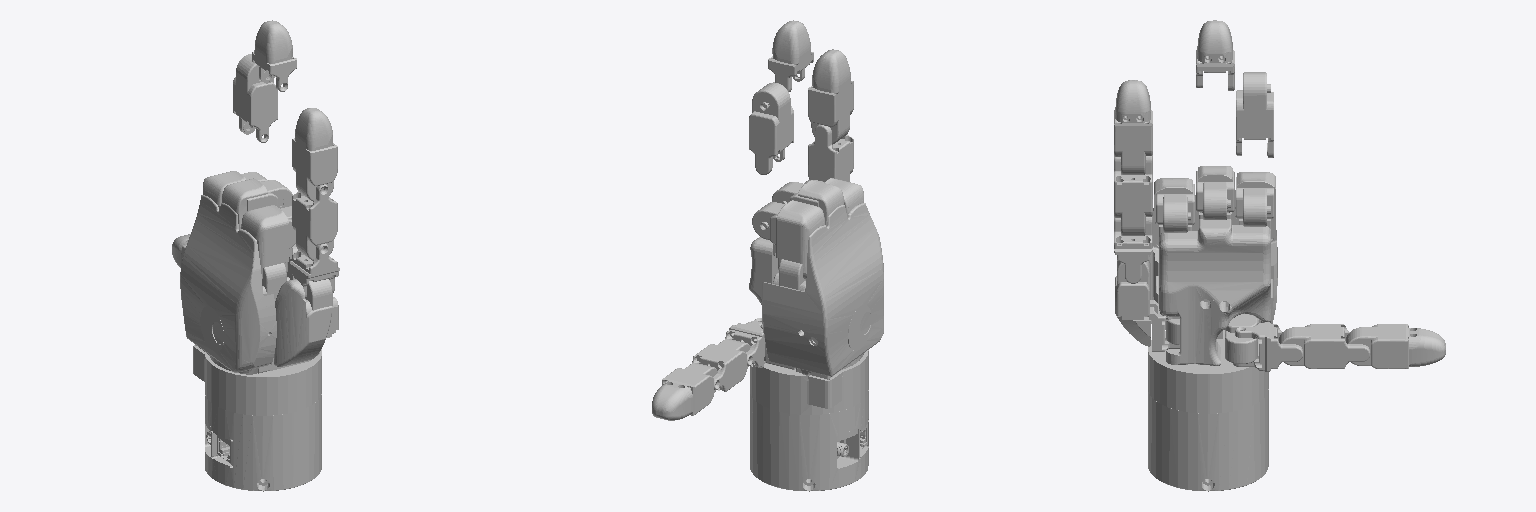
robot.urdf — delto_gripper_5f:
<?xml version="1.0" ?>

<robot name="delto_gripper_5f">
  <material name="silver">
    <color rgba="0.8 0.8 0.8 1"/>
  </material>

  <link name="dummy_link"/>

  <joint name="dummy_joint" type="fixed">
    <origin xyz="0 0 0" rpy="0 0 0"/>
    <parent link="dummy_link"/>
    <child link="link_d"/>
  </joint>
  
  <link name="link_d">
    <inertial>
      <mass value="0.5" />
      <inertia ixx="0.000001" iyy="0.000001" izz="0.000001" ixy="0" ixz="0" iyz="0"/>
    </inertial>
    <visual>
      <origin xyz="0 0 0" rpy="0 0 0" />
      <geometry>
        <mesh filename="package://delto_description/meshes/DG5F/base_link.STL" />
      </geometry>
      <material name="silver"/>
    <material name="silver"/>
</visual>
    <collision>
      <origin xyz="0 0 0" rpy="0 0 0" />
      <geometry>
        <mesh filename="package://delto_description/meshes/DG5F/base_link.STL" />
      </geometry>
    </collision>
  </link>

  <!--finger 1-->
  <link name="l_1_1">
    <inertial>
      <mass value="0.02" />
      <inertia ixx="0.000001" iyy="0.000001" izz="0.000001" ixy="0" ixz="0" iyz="0"/>
    </inertial>
    <visual>
      <origin xyz="0 0 0" rpy="0 0 0" />
      <geometry>
        <mesh filename="package://delto_description/meshes/DG5F/l_1_1.STL" />
      </geometry>
      <material name="silver"/>
    <material name="silver"/>
</visual>
    <collision>
      <origin xyz="0 0 0" rpy="0 0 0" />
      <geometry>
        <mesh filename="package://delto_description/meshes/DG5F/l_1_1.STL" />
      </geometry>
    </collision>
  </link>
      
  <joint name="j_1_1" type="revolute">
    <origin xyz="-0.0184 0.0191 0.0866" rpy="0.0 0.0 0.0" />
    <parent link="link_d" />
    <child link="l_1_1" />
    <axis xyz="1 0 0" />
    <limit lower="-0.261799" upper="1.0472" effort="100.0" velocity="3.141592653589793"/>  <!-- effort="100.0" velocity="3.141592653589793" -->
  </joint>

  <link name="l_1_2">
    <inertial>
      <mass value="0.01" />
<inertia ixx="0.000001" iyy="0.000001" izz="0.000001" ixy="0" ixz="0" iyz="0"/>
    </inertial>
    <visual>
      <origin xyz="0 0 0" rpy="0 0 0" />
      <geometry>
        <mesh filename="package://delto_description/meshes/DG5F/l_1_2.STL" />
      </geometry>
    <material name="silver"/>
</visual>
    <collision>
      <origin xyz="0 0 0" rpy="0 0 0" />
      <geometry>
        <mesh filename="package://delto_description/meshes/DG5F/l_1_2.STL" />
      </geometry>
    </collision>
  </link>
  <joint name="j_1_2" type="revolute">
    <origin xyz="0.0405 0.0 0.0" rpy="0.0 0.0 0.0" />
    <parent link="l_1_1" />
    <child link="l_1_2" />
    <axis xyz="0 0 -1" />
    <limit lower="-0.0" upper="1.91986" effort="100.0" velocity="3.141592653589793"/>  <!-- effort="100.0" velocity="3.141592653589793" -->
  </joint>

  <link name="l_1_3">
    <inertial>
      <mass value="0.02" />
<inertia ixx="0.000001" iyy="0.000001" izz="0.000001" ixy="0" ixz="0" iyz="0"/>
    </inertial>
    <visual>
      <origin xyz="0 0 0" rpy="0 0 0" />
      <geometry>
        <mesh filename="package://delto_description/meshes/DG5F/l_1_3.STL" />
      </geometry>
    <material name="silver"/>
</visual>
    <collision>
      <origin xyz="0 0 0" rpy="0 0 0" />
      <geometry>
        <mesh filename="package://delto_description/meshes/DG5F/l_1_3.STL" />
      </geometry>
    </collision>
  </link>
  <joint name="j_1_3" type="revolute">
    <origin xyz="0.0 0.031 0.0" rpy="0.0 0.0 0.0" />
    <parent link="l_1_2" />
    <child link="l_1_3" />
    <axis xyz="1 0 0" />
    <limit lower="-1.5708" upper="1.5708" effort="100.0" velocity="3.141592653589793"/>  <!-- effort="100.0" velocity="3.141592653589793" -->
  </joint>

  <link name="l_1_4">
    <inertial>
      <mass value="0.02" />
<inertia ixx="0.000001" iyy="0.000001" izz="0.000001" ixy="0" ixz="0" iyz="0"/>
    </inertial>
    <visual>
      <origin xyz="0 0 0" rpy="0 0 0" />
      <geometry>
        <mesh filename="package://delto_description/meshes/DG5F/l_1_4.STL" />
      </geometry>
    <material name="silver"/>
</visual>
    <collision>
      <origin xyz="0 0 0" rpy="0 0 0" />
      <geometry>
        <mesh filename="package://delto_description/meshes/DG5F/l_1_4.STL" />
      </geometry>
    </collision>
  </link>
  <joint name="j_1_4" type="revolute">
    <origin xyz="0.0 0.0388 0.0" rpy="0.0 0.0 0.0" />
    <parent link="l_1_3" />
    <child link="l_1_4" />
    <axis xyz="1 0 0" />
    <limit lower="-1.5708" upper="1.5708" effort="100.0" velocity="3.141592653589793"/>  <!-- effort="100.0" velocity="3.141592653589793" -->
  </joint>

  <link name="l_1_tip">
    <inertial>
      <mass value="0.01" />
<inertia ixx="0.000001" iyy="0.000001" izz="0.000001" ixy="0" ixz="0" iyz="0"/>
    </inertial>
    <visual>
      <origin xyz="0 0 0" rpy="0 0 0" />
      <geometry>
        <mesh filename="package://delto_description/meshes/DG5F/l_1_tip.STL" />
      </geometry>
    <material name="silver"/>
</visual>
    <collision>
      <origin xyz="0 0 0" rpy="0 0 0" />
      <geometry>
        <mesh filename="package://delto_description/meshes/DG5F/l_1_tip.STL" />
      </geometry>
    </collision>
  </link>
  <joint name="j_1_tip" type="fixed">
    <origin xyz="0.0 0.0248 0.0" rpy="0.0 0.0 0.0" />
    <parent link="l_1_4" />
    <child link="l_1_tip" />
  </joint>

  <!--finger 2-->
  <link name="l_2_1">
    <inertial>
      <mass value="0.02" />
<inertia ixx="0.000001" iyy="0.000001" izz="0.000001" ixy="0" ixz="0" iyz="0"/>
    </inertial>
    <visual>
      <origin xyz="0 0 0" rpy="0 0 0" />
      <geometry>
        <mesh filename="package://delto_description/meshes/DG5F/l_2_1.STL" />
      </geometry>
    <material name="silver"/>
</visual>
    <collision>
      <origin xyz="0 0 0" rpy="0 0 0" />
      <geometry>
        <mesh filename="package://delto_description/meshes/DG5F/l_2_1.STL" />
      </geometry>
    </collision>
  </link>
  <joint name="j_2_1" type="revolute">
    <origin xyz="-0.0071 0.02702 0.1409" rpy="0.0 0.0 0.0" />
    <parent link="link_d" />
    <child link="l_2_1" />
    <axis xyz="1 0 0" />
    <limit lower="-0.523599" upper="0.261799" effort="100.0" velocity="3.141592653589793"/>  <!-- effort="100.0" velocity="3.141592653589793" -->
  </joint>

  <link name="l_2_2">
    <inertial>
      <mass value="0.02" />
<inertia ixx="0.000001" iyy="0.000001" izz="0.000001" ixy="0" ixz="0" iyz="0"/>
    </inertial>
    <visual>
      <origin xyz="0 0 0" rpy="0 0 0" />
      <geometry>
        <mesh filename="package://delto_description/meshes/DG5F/l_2_2.STL" />
      </geometry>
    <material name="silver"/>
</visual>
    <collision>
      <origin xyz="0 0 0" rpy="0 0 0" />
      <geometry>
        <mesh filename="package://delto_description/meshes/DG5F/l_2_2.STL" />
      </geometry>
    </collision>
  </link>
  <joint name="j_2_2" type="revolute">
    <origin xyz="0.0171 0.0 0.0272" rpy="0.0 0.0 0.0" />
    <parent link="l_2_1" />
    <child link="l_2_2" />
    <axis xyz="0 1 0" />
    <limit lower="-0.0" upper="1.74533" effort="100.0" velocity="3.141592653589793"/>  <!-- effort="100.0" velocity="3.141592653589793" -->
  </joint>

  <link name="l_2_3">
    <inertial>
      <mass value="0.02" />
<inertia ixx="0.000001" iyy="0.000001" izz="0.000001" ixy="0" ixz="0" iyz="0"/>
    </inertial>
    <visual>
      <origin xyz="0 0 0" rpy="0 0 0" />
      <geometry>
        <mesh filename="package://delto_description/meshes/DG5F/l_2_3.STL" />
      </geometry>
    <material name="silver"/>
</visual>
    <collision>
      <origin xyz="0 0 0" rpy="0 0 0" />
      <geometry>
        <mesh filename="package://delto_description/meshes/DG5F/l_2_3.STL" />
      </geometry>
    </collision>
  </link>
  <joint name="j_2_3" type="revolute">
    <origin xyz="0.0 0.0 0.0388" rpy="0.0 0.0 0.0" />
    <parent link="l_2_2" />
    <child link="l_2_3" />
    <axis xyz="0 1 0" />
    <limit lower="-1.5708" upper="1.5708" effort="100.0" velocity="3.141592653589793"/>  <!-- effort="100.0" velocity="3.141592653589793" -->
  </joint>

  <link name="l_2_4">
    <inertial>
      <mass value="0.01" />
<inertia ixx="0.000001" iyy="0.000001" izz="0.000001" ixy="0" ixz="0" iyz="0"/>
    </inertial>
    <visual>
      <origin xyz="0 0 0" rpy="0 0 0" />
      <geometry>
        <mesh filename="package://delto_description/meshes/DG5F/l_2_4.STL" />
      </geometry>
    <material name="silver"/>
</visual>
    <collision>
      <origin xyz="0 0 0" rpy="0 0 0" />
      <geometry>
        <mesh filename="package://delto_description/meshes/DG5F/l_2_4.STL" />
      </geometry>
    </collision>
  </link>
  <joint name="j_2_4" type="revolute">
    <origin xyz="0.0 0.0 0.0388" rpy="0.0 0.0 0.0" />
    <parent link="l_2_3" />
    <child link="l_2_4" />
    <axis xyz="0 1 0" />
    <limit lower="-1.5708" upper="1.5708" effort="100.0" velocity="3.141592653589793"/>  <!-- effort="100.0" velocity="3.141592653589793" -->
  </joint>

  <link name="l_2_tip">
    <inertial>
      <mass value="0.01" />
<inertia ixx="0.000001" iyy="0.000001" izz="0.000001" ixy="0" ixz="0" iyz="0"/>
    </inertial>
    <visual>
      <origin xyz="0 0 0" rpy="0 0 0" />
      <geometry>
        <mesh filename="package://delto_description/meshes/DG5F/l_2_tip.STL" />
      </geometry>
    <material name="silver"/>
</visual>
    <collision>
      <origin xyz="0 0 0" rpy="0 0 0" />
      <geometry>
        <mesh filename="package://delto_description/meshes/DG5F/l_2_tip.STL" />
      </geometry>
    </collision>
  </link>
  <joint name="j_2_tip" type="fixed">
    <origin xyz="0.0 0.0 0.014" rpy="0.0 0.0 0.0" />
    <parent link="l_2_4" />
    <child link="l_2_tip" />
  </joint>

  <!--finger 3-->
  <link name="l_3_1">
    <inertial>
      <mass value="0.02" />
      <inertia ixx="0.000001" iyy="0.000001" izz="0.000001" ixy="0" ixz="0" iyz="0"/>s
    </inertial>
    <visual>
      <origin xyz="0 0 0" rpy="0 0 0" />
      <geometry>
        <mesh filename="package://delto_description/meshes/DG5F/l_3_1.STL" />
      </geometry>
    <material name="silver"/>
</visual>
    <collision>
      <origin xyz="0 0 0" rpy="0 0 0" />
      <geometry>
        <mesh filename="package://delto_description/meshes/DG5F/l_3_1.STL" />
      </geometry>
    </collision>
  </link>
  <joint name="j_3_1" type="revolute">
    <origin xyz="-0.0071 0.00402 0.1449" rpy="0.0 0.0 0.0" />
    <parent link="link_d" />
    <child link="l_3_1" />
    <axis xyz="1 0 0" />
    <limit lower="-0.523599" upper="0.523599" effort="100.0" velocity="3.141592653589793"/>  <!-- effort="100.0" velocity="3.141592653589793" -->
  </joint>

  <link name="l_3_2">
    <inertial>
      <mass value="0.02" />
      <inertia ixx="0.000001" iyy="0.000001" izz="0.000001" ixy="0" ixz="0" iyz="0"/>
    </inertial>
    <visual>
      <origin xyz="0 0 0" rpy="0 0 0" />
      <geometry>
        <mesh filename="package://delto_description/meshes/DG5F/l_3_2.STL" />
      </geometry>
    <material name="silver"/>
</visual>
    <collision>
      <origin xyz="0 0 0" rpy="0 0 0" />
      <geometry>
        <mesh filename="package://delto_description/meshes/DG5F/l_3_2.STL" />
      </geometry>
    </collision>
  </link>
  <joint name="j_3_2" type="revolute">
    <origin xyz="0.0171 0.0 0.0272" rpy="0.0 0.0 0.0" />
    <parent link="l_3_1" />
    <child link="l_3_2" />
    <axis xyz="0 1 0" />
    <limit lower="-0.0" upper="1.74533" effort="100.0" velocity="3.141592653589793"/>  <!-- effort="100.0" velocity="3.141592653589793" -->
  </joint>

  <link name="l_3_3">
    <inertial>
      <mass value="0.02" />
      <inertia ixx="0.000001" iyy="0.000001" izz="0.000001" ixy="0" ixz="0" iyz="0"/>
    </inertial>
    <visual>
      <origin xyz="0 0 0" rpy="0 0 0" />
      <geometry>
        <mesh filename="package://delto_description/meshes/DG5F/l_3_3.STL" />
      </geometry>
    <material name="silver"/>
</visual>
    <collision>
      <origin xyz="0 0 0" rpy="0 0 0" />
      <geometry>
        <mesh filename="package://delto_description/meshes/DG5F/l_3_3.STL" />
      </geometry>
    </collision>
  </link>
  <joint name="j_3_3" type="revolute">
    <origin xyz="0.0 0.0 0.0388" rpy="0.0 0.0 0.0" />
    <parent link="l_3_2" />
    <child link="l_3_3" />
    <axis xyz="0 1 0" />
    <limit lower="-1.5708" upper="1.5708" effort="100.0" velocity="3.141592653589793"/>  <!-- effort="100.0" velocity="3.141592653589793" -->
  </joint>

  <link name="l_3_4">
    <inertial>
      <mass value="0.01" />
      <inertia ixx="0.000001" iyy="0.000001" izz="0.000001" ixy="0" ixz="0" iyz="0"/>
    </inertial>
    <visual>
      <origin xyz="0 0 0" rpy="0 0 0" />
      <geometry>
        <mesh filename="package://delto_description/meshes/DG5F/l_3_4.STL" />
      </geometry>
    <material name="silver"/>
</visual>
    <collision>
      <origin xyz="0 0 0" rpy="0 0 0" />
      <geometry>
        <mesh filename="package://delto_description/meshes/DG5F/l_3_4.STL" />
      </geometry>
    </collision>
  </link>
  <joint name="j_3_4" type="revolute">
    <origin xyz="0.0 0.0 0.0388" rpy="0.0 0.0 0.0" />
    <parent link="l_3_3" />
    <child link="l_3_4" />
    <axis xyz="0 1 0" />
    <limit lower="-1.5708" upper="1.5708" effort="100.0" velocity="3.141592653589793"/>  <!-- effort="100.0" velocity="3.141592653589793" -->
  </joint>

  <link name="l_3_tip">
    <inertial>
      <mass value="0.01" />
      <inertia ixx="0.000001" iyy="0.000001" izz="0.000001" ixy="0" ixz="0" iyz="0"/>
    </inertial>
    <visual>
      <origin xyz="0 0 0" rpy="0 0 0" />
      <geometry>
        <mesh filename="package://delto_description/meshes/DG5F/l_3_tip.STL" />
      </geometry>
    <material name="silver"/>
</visual>
    <collision>
      <origin xyz="0 0 0" rpy="0 0 0" />
      <geometry>
        <mesh filename="package://delto_description/meshes/DG5F/l_3_tip.STL" />
      </geometry>
    </collision>
  </link>
  <joint name="j_3_tip" type="fixed">
    <origin xyz="0.0 0.0 0.014" rpy="0.0 0.0 0.0" />
    <parent link="l_3_4" />
    <child link="l_3_tip" />
  </joint>

  <!--finger 4-->
  <link name="l_4_1">
    <inertial>
      <mass value="0.02" />
      <inertia ixx="0.000001" iyy="0.000001" izz="0.000001" ixy="0" ixz="0" iyz="0"/>
    </inertial>
    <visual>
      <origin xyz="0 0 0" rpy="0 0 0" />
      <geometry>
        <mesh filename="package://delto_description/meshes/DG5F/l_4_1.STL" />
      </geometry>
    <material name="silver"/>
</visual>
    <collision>
      <origin xyz="0 0 0" rpy="0 0 0" />
      <geometry>
        <mesh filename="package://delto_description/meshes/DG5F/l_4_1.STL" />
      </geometry>
    </collision>
  </link>
  <joint name="j_4_1" type="revolute">
    <origin xyz="-0.0071 -0.01898 0.1369" rpy="0.0 0.0 0.0" />
    <parent link="link_d" />
    <child link="l_4_1" />
    <axis xyz="1 0 0" />
    <limit lower="-0.261799" upper="0.523599" effort="100.0" velocity="3.141592653589793"/>  <!-- effort="100.0" velocity="3.141592653589793" -->
  </joint>

  <link name="l_4_2">
    <inertial>
      <mass value="0.02" />
      <inertia ixx="0.000001" iyy="0.000001" izz="0.000001" ixy="0" ixz="0" iyz="0"/>
    </inertial>
    <visual>
      <origin xyz="0 0 0" rpy="0 0 0" />
      <geometry>
        <mesh filename="package://delto_description/meshes/DG5F/l_4_2.STL" />
      </geometry>
    <material name="silver"/>
</visual>
    <collision>
      <origin xyz="0 0 0" rpy="0 0 0" />
      <geometry>
        <mesh filename="package://delto_description/meshes/DG5F/l_4_2.STL" />
      </geometry>
    </collision>
  </link>
  <joint name="j_4_2" type="revolute">
    <origin xyz="0.0171 0.0 0.0272" rpy="0.0 0.0 0.0" />
    <parent link="l_4_1" />
    <child link="l_4_2" />
    <axis xyz="0 1 0" />
    <limit lower="-0.0" upper="1.74533" effort="100.0" velocity="3.141592653589793"/>  <!-- effort="100.0" velocity="3.141592653589793" -->
  </joint>

  <link name="l_4_3">
    <inertial>
      <mass value="0.02" />
      <inertia ixx="0.000001" iyy="0.000001" izz="0.000001" ixy="0" ixz="0" iyz="0"/>
    </inertial>
    <visual>
      <origin xyz="0 0 0" rpy="0 0 0" />
      <geometry>
        <mesh filename="package://delto_description/meshes/DG5F/l_4_3.STL" />
      </geometry>
    <material name="silver"/>
</visual>
    <collision>
      <origin xyz="0 0 0" rpy="0 0 0" />
      <geometry>
        <mesh filename="package://delto_description/meshes/DG5F/l_4_3.STL" />
      </geometry>
    </collision>
  </link>
  <joint name="j_4_3" type="revolute">
    <origin xyz="0.0 0.0 0.0388" rpy="0.0 0.0 0.0" />
    <parent link="l_4_2" />
    <child link="l_4_3" />
    <axis xyz="0 1 0" />
    <limit lower="-1.5708" upper="1.5708" effort="100.0" velocity="3.141592653589793"/>  <!-- effort="100.0" velocity="3.141592653589793" -->
  </joint>

  <link name="l_4_4">
    <inertial>
      <mass value="0.01" />
      <inertia ixx="0.000001" iyy="0.000001" izz="0.000001" ixy="0" ixz="0" iyz="0"/>
    </inertial>
    <visual>
      <origin xyz="0 0 0" rpy="0 0 0" />
      <geometry>
        <mesh filename="package://delto_description/meshes/DG5F/l_4_4.STL" />
      </geometry>
    <material name="silver"/>
</visual>
    <collision>
      <origin xyz="0 0 0" rpy="0 0 0" />
      <geometry>
        <mesh filename="package://delto_description/meshes/DG5F/l_4_4.STL" />
      </geometry>
    </collision>
  </link>
  <joint name="j_4_4" type="revolute">
    <origin xyz="0.0 0.0 0.0388" rpy="0.0 0.0 0.0" />
    <parent link="l_4_3" />
    <child link="l_4_4" />
    <axis xyz="0 1 0" />
    <limit lower="-1.5708" upper="1.5708" effort="100.0" velocity="3.141592653589793"/>  <!-- effort="100.0" velocity="3.141592653589793" -->
  </joint>

  <link name="l_4_tip">
    <inertial>
      <mass value="0.01" />
      <inertia ixx="0.000001" iyy="0.000001" izz="0.000001" ixy="0" ixz="0" iyz="0"/>
    </inertial>
    <visual>
      <origin xyz="0 0 0" rpy="0 0 0" />
      <geometry>
        <mesh filename="package://delto_description/meshes/DG5F/l_4_tip.STL" />
      </geometry>
    <material name="silver"/>
</visual>
    <collision>
      <origin xyz="0 0 0" rpy="0 0 0" />
      <geometry>
        <mesh filename="package://delto_description/meshes/DG5F/l_4_tip.STL" />
      </geometry>
    </collision>
  </link>
  <joint name="j_4_tip" type="fixed">
    <origin xyz="0.0 0.0 0.014" rpy="0.0 0.0 0.0" />
    <parent link="l_4_4" />
    <child link="l_4_tip" />
  </joint>

  <!--finger 5-->
  <link name="l_5_1">
    <inertial>
      <mass value="0.02" />
      <inertia ixx="0.000001" iyy="0.000001" izz="0.000001" ixy="0" ixz="0" iyz="0"/>
    </inertial>
    <visual>
      <origin xyz="0 0 0" rpy="0 0 0" />
      <geometry>
        <mesh filename="package://delto_description/meshes/DG5F/l_5_1.STL" />
      </geometry>
    <material name="silver"/>
</visual>
    <collision>
      <origin xyz="0 0 0" rpy="0 0 0" />
      <geometry>
        <mesh filename="package://delto_description/meshes/DG5F/l_5_1.STL" />
      </geometry>
    </collision>
  </link>
  <joint name="j_5_1" type="revolute">
    <origin xyz="0.0103 -0.01498 0.093" rpy="0.0 0.0 0.0" />
    <parent link="link_d" />
    <child link="l_5_1" />
    <axis xyz="0 0 1" />
    <limit lower="-0.0" upper="0.785398" effort="100.0" velocity="3.141592653589793"/>  <!-- effort="100.0" velocity="3.141592653589793" -->
  </joint>

  <link name="l_5_2">
    <inertial>
      <mass value="0.01" />
      <inertia ixx="0.000001" iyy="0.000001" izz="0.000001" ixy="0" ixz="0" iyz="0"/>
    </inertial>
    <visual>
      <origin xyz="0 0 0" rpy="0 0 0" />
      <geometry>
        <mesh filename="package://delto_description/meshes/DG5F/l_5_2.STL" />
      </geometry>
    <material name="silver"/>
</visual>
    <collision>
      <origin xyz="0 0 0" rpy="0 0 0" />
      <geometry>
        <mesh filename="package://delto_description/meshes/DG5F/l_5_2.STL" />
      </geometry>
    </collision>
  </link>
  <joint name="j_5_2" type="revolute">
    <origin xyz="0.0 -0.0284 0.0381" rpy="0.0 0.0 0.0" />
    <parent link="l_5_1" />
    <child link="l_5_2" />
    <axis xyz="1 0 0" />
    <limit lower="-0.0" upper="1.5708" effort="100.0" velocity="3.141592653589793"/>  <!-- effort="100.0" velocity="3.141592653589793" -->
  </joint>

  <link name="l_5_3">
    <inertial>
      <mass value="0.02" />
      <inertia ixx="0.000001" iyy="0.000001" izz="0.000001" ixy="0" ixz="0" iyz="0"/>
    </inertial>
    <visual>
      <origin xyz="0 0 0" rpy="0 0 0" />
      <geometry>
        <mesh filename="package://delto_description/meshes/DG5F/l_5_3.STL" />
      </geometry>
    <material name="silver"/>
</visual>
    <collision>
      <origin xyz="0 0 0" rpy="0 0 0" />
      <geometry>
        <mesh filename="package://delto_description/meshes/DG5F/l_5_3.STL" />
      </geometry>
    </collision>
  </link>
  <joint name="j_5_3" type="revolute">
    <origin xyz="0.0 0.0 0.031" rpy="0.0 0.0 0.0" />
    <parent link="l_5_2" />
    <child link="l_5_3" />
    <axis xyz="0 1 0" />
    <limit lower="-1.5708" upper="1.5708" effort="100.0" velocity="3.141592653589793"/>  <!-- effort="100.0" velocity="3.141592653589793" -->
  </joint>

  <link name="l_5_4">
    <inertial>
      <mass value="0.02" />
      <inertia ixx="0.000001" iyy="0.000001" izz="0.000001" ixy="0" ixz="0" iyz="0"/>
    </inertial>
    <visual>
      <origin xyz="0 0 0" rpy="0 0 0" />
      <geometry>
        <mesh filename="package://delto_description/meshes/DG5F/l_5_4.STL" />
      </geometry>
    <material name="silver"/>
</visual>
    <collision>
      <origin xyz="0 0 0" rpy="0 0 0" />
      <geometry>
        <mesh filename="package://delto_description/meshes/DG5F/l_5_4.STL" />
      </geometry>
    </collision>
  </link>
  <joint name="j_5_4" type="revolute">
    <origin xyz="0.0 0.0 0.0388" rpy="0.0 0.0 0.0" />
    <parent link="l_5_3" />
    <child link="l_5_4" />
    <axis xyz="0 1 0" />
    <limit lower="-1.5708" upper="1.5708" effort="100.0" velocity="3.141592653589793"/>  <!-- effort="100.0" velocity="3.141592653589793" -->
  </joint>

  <link name="l_5_tip">
    <inertial>
      <mass value="0.01" />
      <inertia ixx="0.000001" iyy="0.000001" izz="0.000001" ixy="0" ixz="0" iyz="0"/>
    </inertial>
    <visual>
      <origin xyz="0 0 0" rpy="0 0 0" />
      <geometry>
        <mesh filename="package://delto_description/meshes/DG5F/l_5_tip.STL" />
      </geometry>
    <material name="silver"/>
</visual>
    <collision>
      <origin xyz="0 0 0" rpy="0 0 0" />
      <geometry>
        <mesh filename="package://delto_description/meshes/DG5F/l_5_tip.STL" />
      </geometry>
    </collision>
  </link>
  <joint name="j_5_tip" type="fixed">
    <origin xyz="0.0 0.0 0.0248" rpy="0.0 0.0 0.0" />
    <parent link="l_5_4" />
    <child link="l_5_tip" />
  </joint>
</robot>

--- What the picture shows (computed from the rendered views, not written in the file) ---
3 views of the same robot in one strip: view 1: azimuth 30°, elevation 25°; view 2: azimuth 150°, elevation 25°; view 3: azimuth 270°, elevation 25° (orthographic).
Model delto_gripper_5f with 27 links and 26 joints (20 revolute, 6 fixed), rooted at dummy_link, posed all joints at 0.
Links seen in each view (by area): view 1: link_d, l_5_1, l_2_3, l_5_3, l_4_1, l_3_1, l_5_4, l_5_tip, l_3_tip, l_5_2, l_2_1, l_3_4; view 2: link_d, l_2_3, l_2_1, l_5_3, l_1_3, l_5_4, l_5_tip, l_1_tip, l_3_tip, l_3_1, l_1_4, l_1_2 (+2 smaller); view 3: link_d, l_5_1, l_1_3, l_2_3, l_5_3, l_4_1, l_2_1, l_3_1, l_1_4, l_1_2, l_5_4, l_5_2 (+4 smaller).
Link boxes in pixels (x1,y1,x2,y2): link_d: (180, 195, 321, 491); l_5_1: (274, 279, 338, 366); l_2_3: (233, 54, 277, 142); l_5_3: (292, 184, 337, 260); l_4_1: (241, 205, 295, 278); l_3_1: (222, 178, 292, 229); l_5_4: (292, 143, 337, 201); l_5_tip: (292, 108, 337, 155); l_3_tip: (252, 20, 296, 68); l_5_2: (290, 243, 339, 298); l_2_1: (203, 171, 267, 209); l_3_4: (252, 56, 296, 91); link_d: (749, 203, 883, 491); l_2_3: (749, 82, 793, 174); l_2_1: (752, 200, 824, 279); l_5_3: (808, 124, 853, 181); l_1_3: (692, 339, 750, 391); l_5_4: (808, 85, 853, 144); l_5_tip: (808, 49, 853, 97); l_1_tip: (652, 378, 696, 420); l_3_tip: (768, 20, 813, 68); l_3_1: (772, 180, 843, 226); l_1_4: (665, 363, 717, 413); l_1_2: (725, 318, 765, 367); link_d: (1148, 190, 1277, 491); l_5_1: (1115, 258, 1179, 351); l_1_3: (1279, 324, 1370, 368); l_2_3: (1236, 72, 1273, 157); l_5_3: (1114, 155, 1152, 235); l_4_1: (1154, 178, 1194, 236); l_2_1: (1235, 172, 1275, 228); l_3_1: (1196, 166, 1234, 230); l_1_4: (1346, 324, 1404, 368); l_1_2: (1233, 322, 1302, 371); l_5_4: (1114, 127, 1152, 174); l_5_2: (1114, 216, 1152, 283).
Bounding box of the posed robot: 0.07 × 0.1924 × 0.2877 m (x, y, z).
Meshes: 26 distinct files referenced, 17 mesh visuals loaded (17 binary STL); not drawn: 9 (reference not matched to a file when rendering).